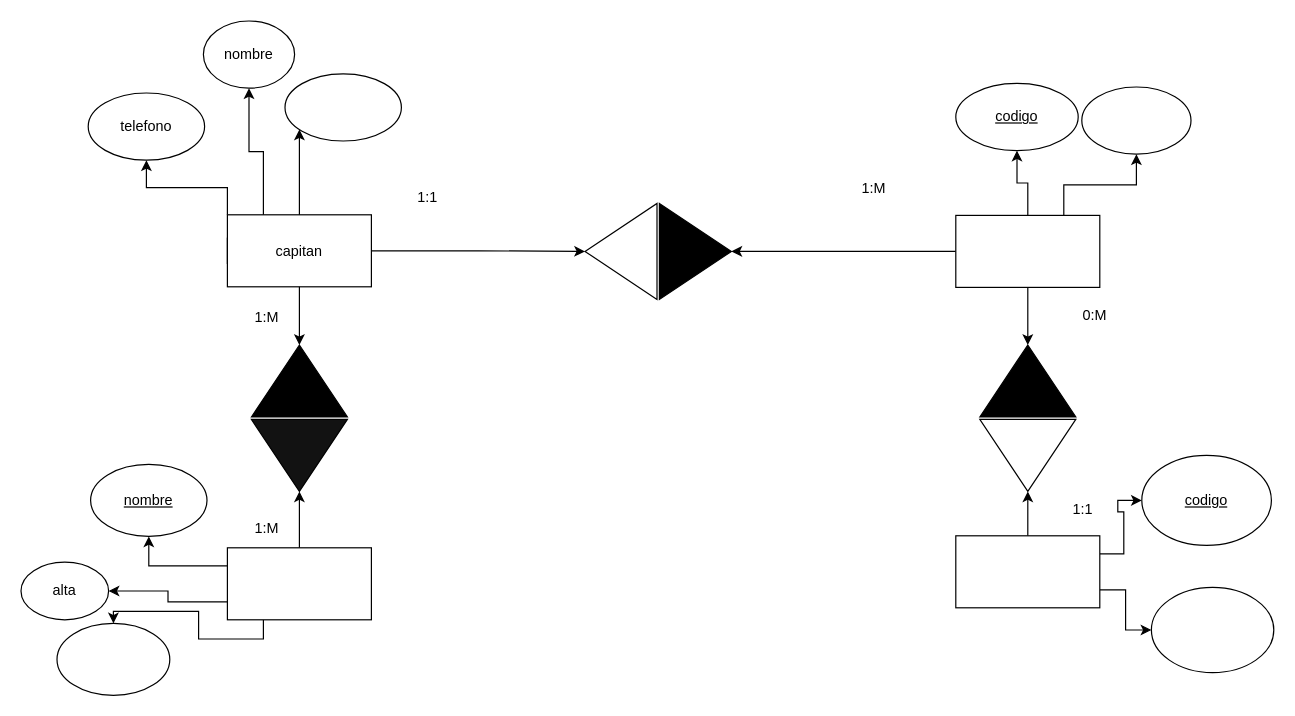
Some shapes in this 1295 by 716 pixel diagram are drawn without their labels. Each missing label, with the centre of its shape:
Barco: (298,583)
contenedor: (1027,250)
dni: (342,107)
Puerto: (1027,571)
